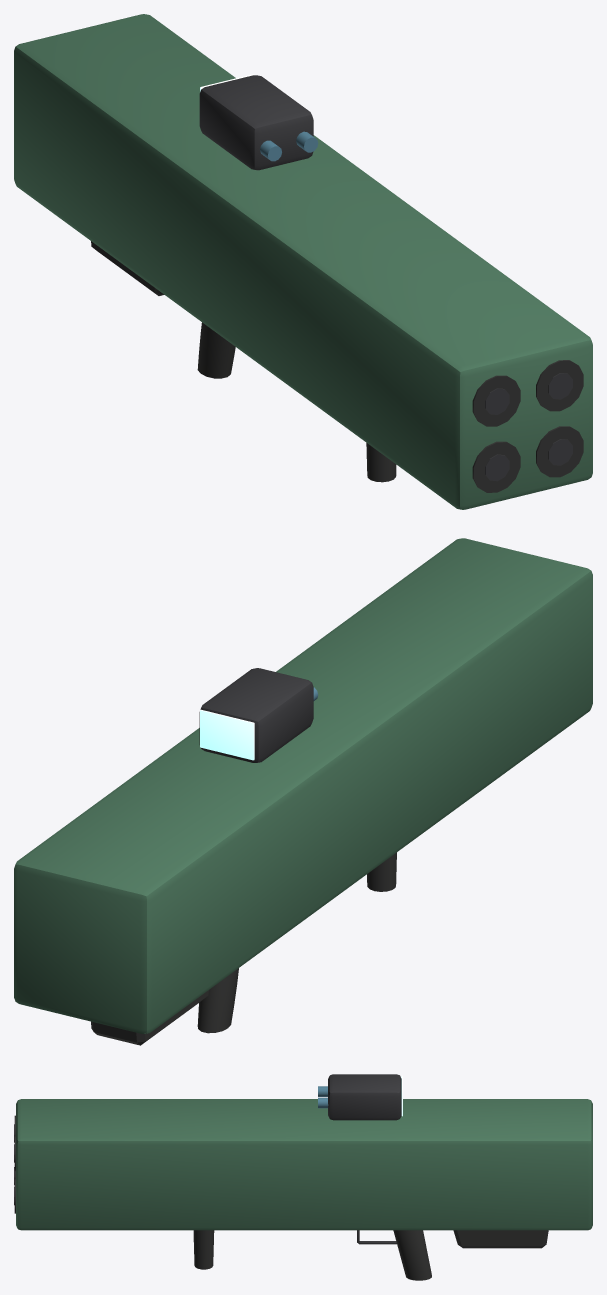
File: emerald.glb
3 views of the same model, one above another, from view 1: azimuth 30°, elevation 25°; view 2: azimuth 150°, elevation 25°; view 3: azimuth 270°, elevation 25° (orthographic). The views are drawn at different scales.
Visible parts, largest first — view 1: Body; view 2: Body; view 3: Body.
Part boxes in pixels (<box>): Body: <box>14,14,592,509</box>; Body: <box>14,538,592,1045</box>; Body: <box>14,1074,592,1280</box>.
Size of the model in its own units: 0.152 by 0.3198 by 0.863.
